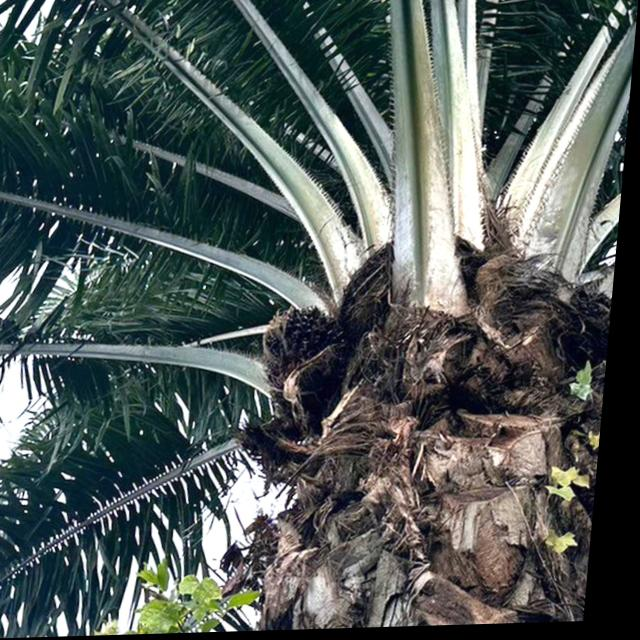almost: (255, 295, 358, 399)
